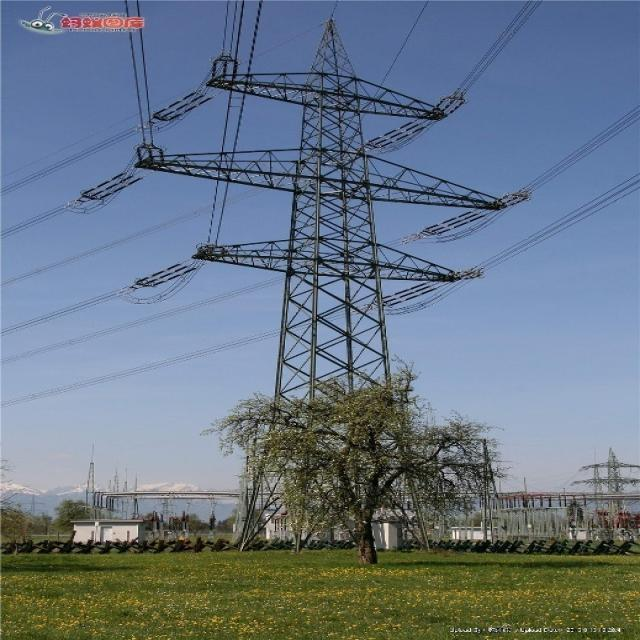utility poles: (222, 320, 514, 560)
